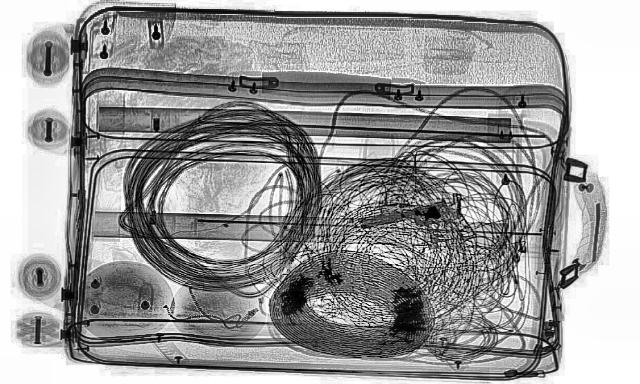Gun: (349, 198, 476, 238)
